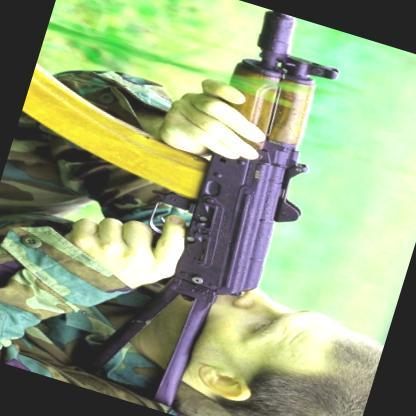rifle: (8, 0, 366, 416)
